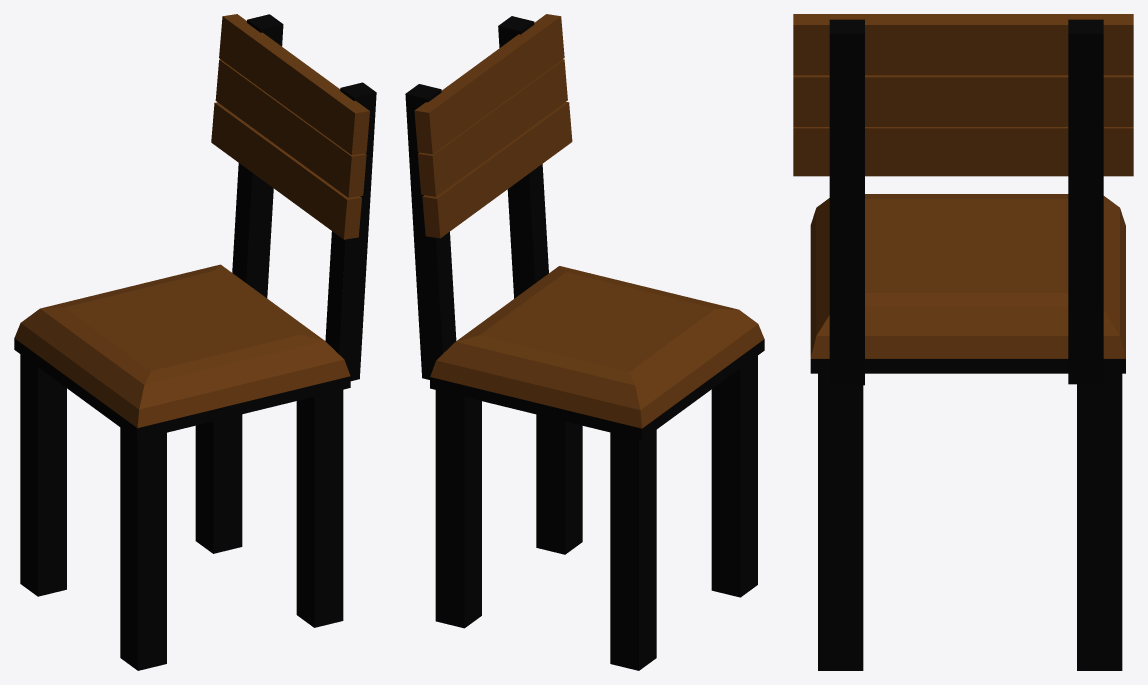
The model's file is Chair.fbx.
The picture shows the model from 3 angles, left to right: view 1: azimuth 30°, elevation 25°; view 2: azimuth 150°, elevation 25°; view 3: azimuth 270°, elevation 25°; orthographic projection. The views are drawn at different scales.
Parts seen in each view (by area): view 1: chair; view 2: chair; view 3: chair.
Part boxes in pixels (x1=…): chair: x1=14, y1=14, x2=376, y2=670; chair: x1=405, y1=14, x2=764, y2=670; chair: x1=793, y1=14, x2=1133, y2=670.
Size of the model in its own units: 287 by 573 by 267.
Materials: 2 (2 with a texture image).
